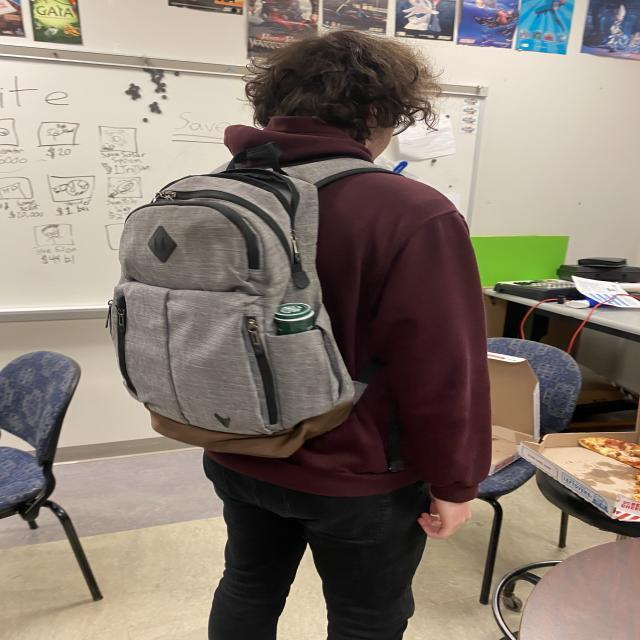Backpacks: (108, 170, 364, 459)
